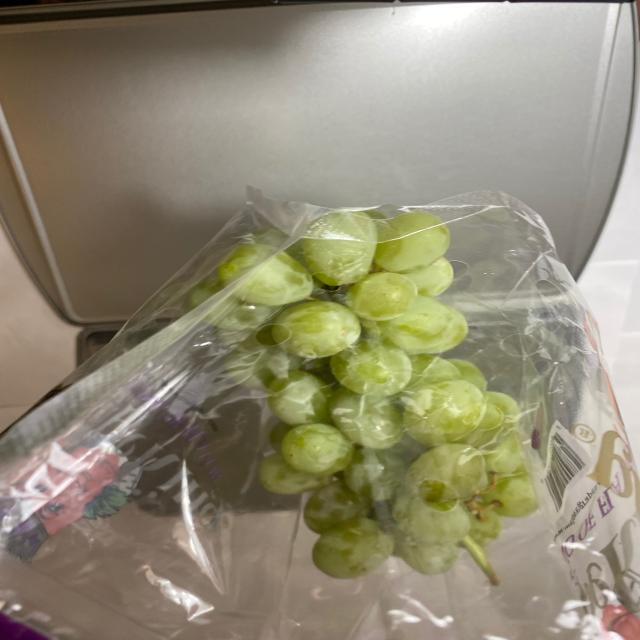grapes: (189, 227, 553, 592)
